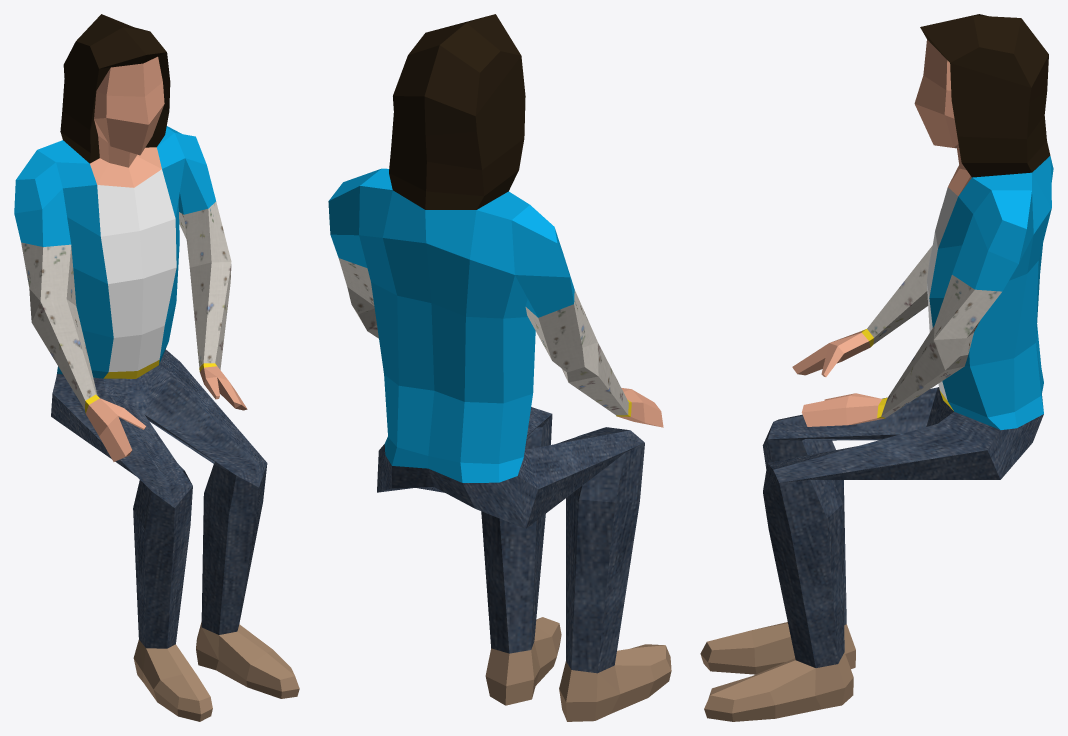
Rendered from SpringGirl.008.glb.
The picture shows the model from 3 angles, left to right: view 1: azimuth 30°, elevation 25°; view 2: azimuth 150°, elevation 25°; view 3: azimuth 270°, elevation 25°; orthographic projection. The views are drawn at different scales.
Parts seen in each view (by area): view 1: SpringGirl.008; view 2: SpringGirl.008; view 3: SpringGirl.008.
Part boxes in pixels (<box>): SpringGirl.008: <box>14,14,299,721</box>; SpringGirl.008: <box>328,14,671,721</box>; SpringGirl.008: <box>700,14,1053,721</box>.
Size of the model in its own units: 0.3274 by 0.9453 by 0.4505.
Materials: 1 (1 with a texture image).
